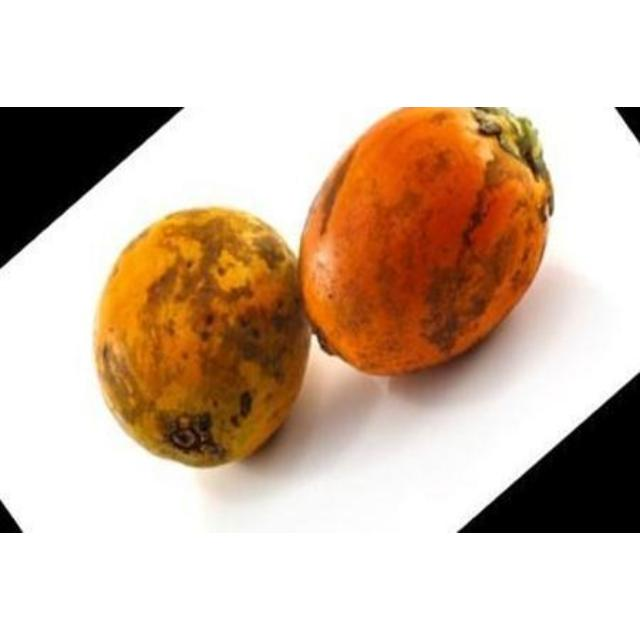good: (299, 107, 553, 379), (92, 207, 313, 471)
